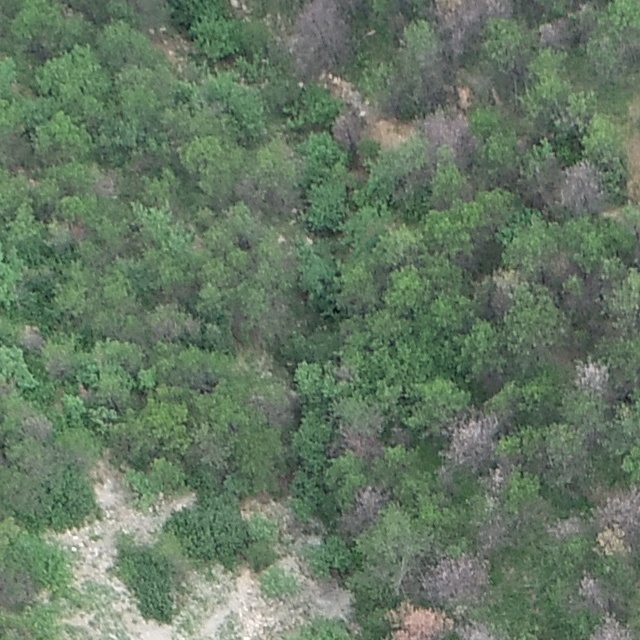unhealthy: (273, 0, 355, 74), (421, 554, 491, 604), (444, 409, 500, 466), (555, 159, 604, 213), (230, 173, 287, 215), (340, 483, 387, 532), (245, 389, 297, 431), (390, 604, 450, 639), (421, 110, 473, 149), (336, 420, 384, 459), (428, 0, 473, 41), (473, 514, 510, 554), (487, 269, 517, 315), (571, 360, 609, 396), (147, 312, 192, 342), (591, 523, 630, 556), (330, 109, 364, 146), (537, 16, 574, 50), (574, 571, 606, 609), (586, 615, 633, 640), (546, 513, 585, 542), (51, 218, 89, 246), (90, 168, 121, 199), (603, 494, 632, 526), (21, 412, 54, 440), (455, 619, 499, 640), (546, 250, 578, 278), (481, 464, 510, 492), (17, 324, 46, 352), (43, 351, 73, 377), (435, 462, 457, 492), (478, 0, 513, 18), (388, 424, 411, 446)
